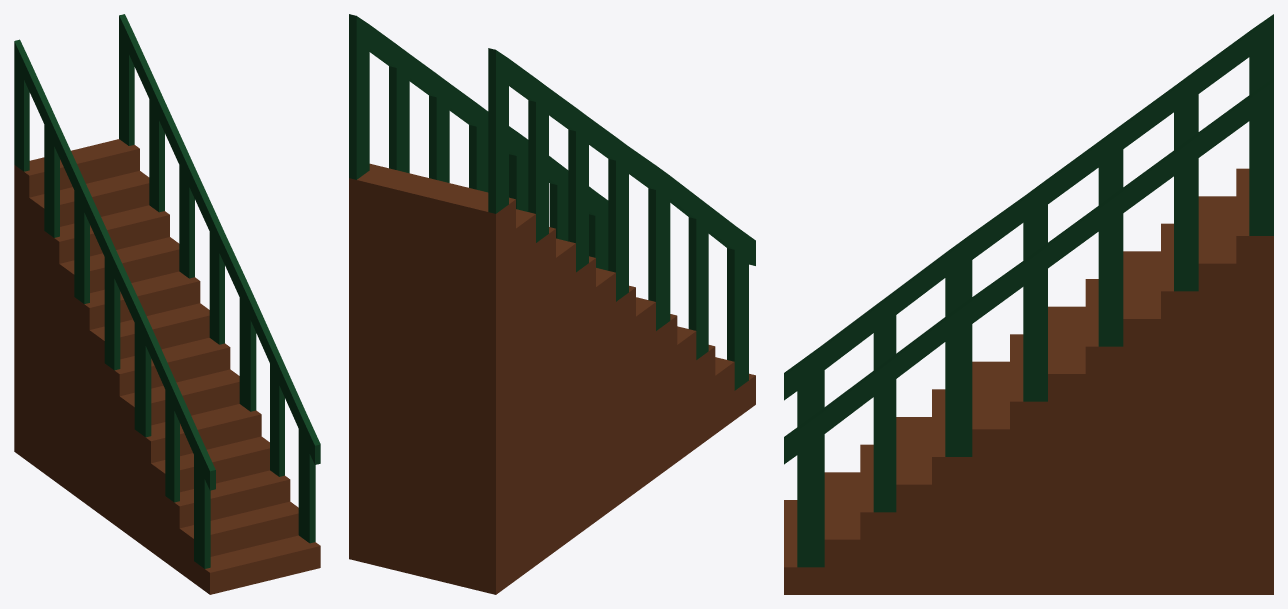
File: Dungeon Stairs.fbx
The picture shows the model from 3 angles, left to right: view 1: azimuth 30°, elevation 25°; view 2: azimuth 150°, elevation 25°; view 3: azimuth 270°, elevation 25°; orthographic projection. The views are drawn at different scales.
Visible parts, largest first — view 1: stairs_low, stair_handle_low001, stair_handle_low; view 2: stairs_low, stair_handle_low, stair_handle_low001; view 3: stairs_low, stair_handle_low001, stair_handle_low.
Boxes of the visible parts, box(x1,y1,x2,y2) form: stairs_low: box(14, 139, 320, 594); stair_handle_low001: box(119, 14, 320, 543); stair_handle_low: box(14, 39, 215, 568); stairs_low: box(349, 163, 755, 594); stair_handle_low: box(488, 48, 755, 390); stair_handle_low001: box(349, 14, 608, 270); stairs_low: box(784, 168, 1273, 594); stair_handle_low001: box(784, 78, 1273, 567); stair_handle_low: box(784, 14, 1273, 426).
Bounding box in the file's own units: 131 × 465 × 402.
